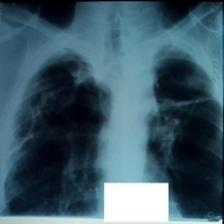tuberculosis: (1, 34, 224, 224)
